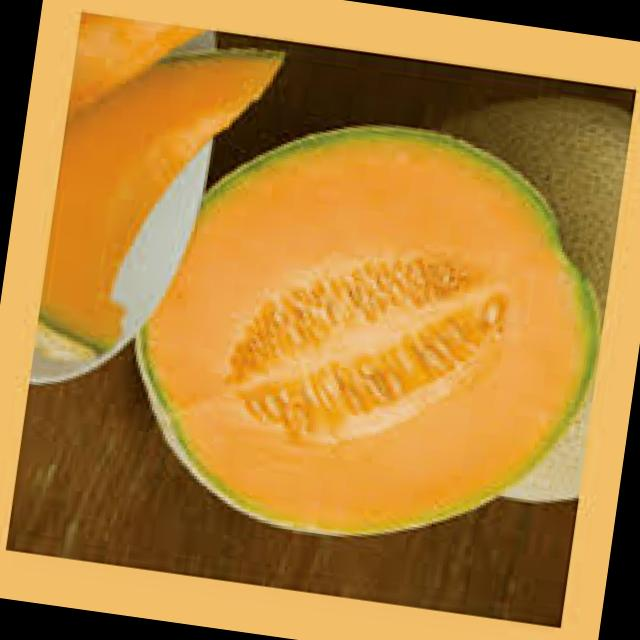cantaloupe: (119, 97, 622, 568), (35, 25, 287, 382)
